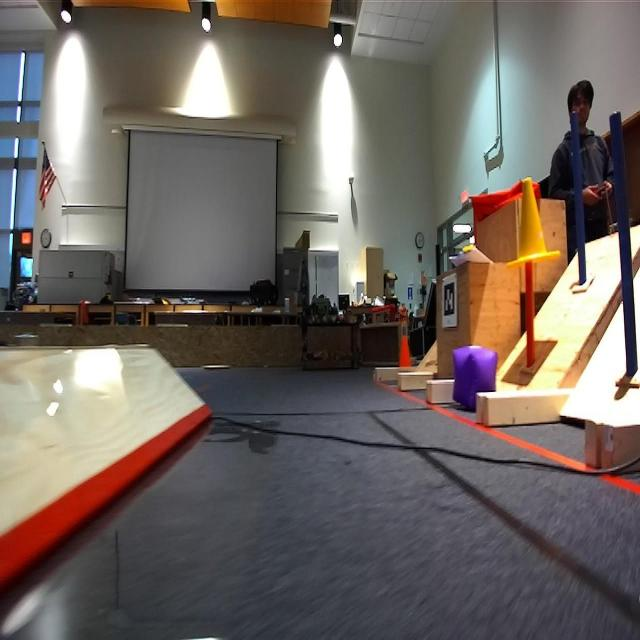frc_cone: (511, 176, 556, 269)
frc_cube: (449, 346, 495, 410)
